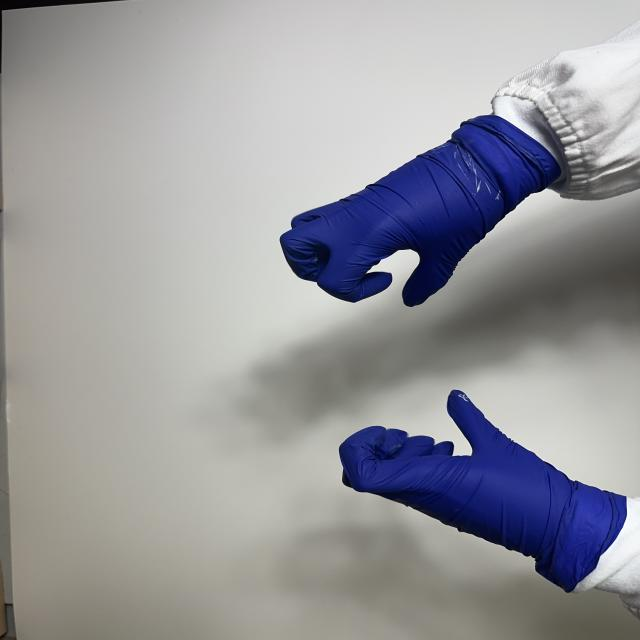gloves_contaminated: (339, 390, 627, 592), (280, 116, 558, 306)
